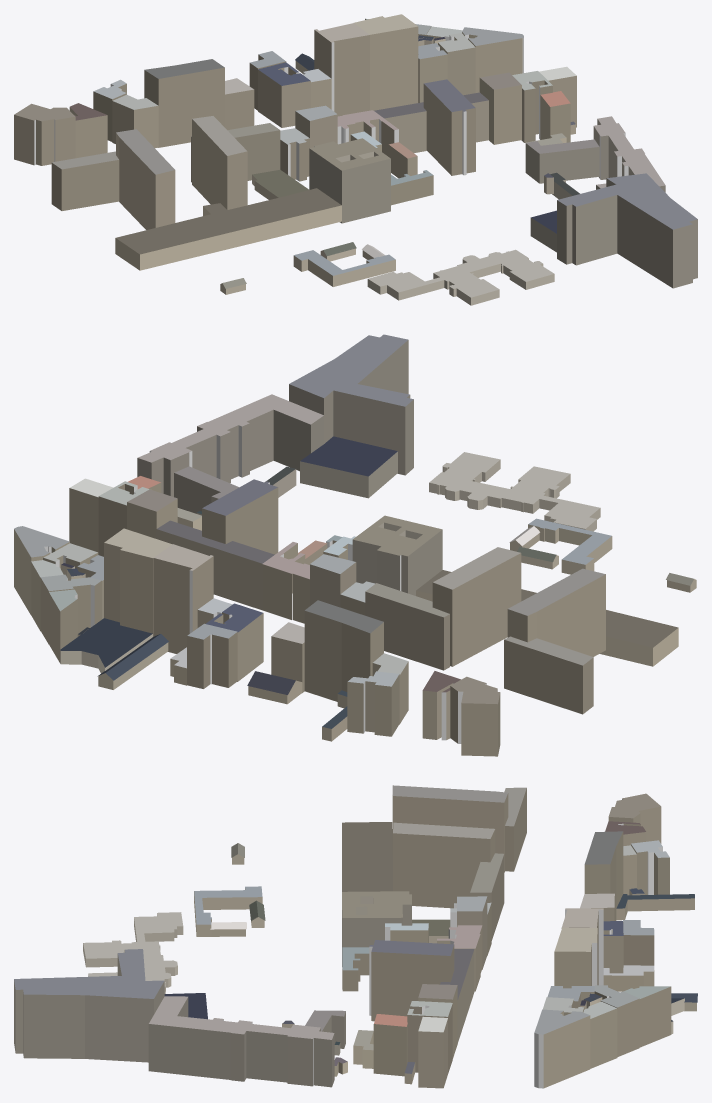
3 renders of one model, top to bottom at view 1: azimuth 30°, elevation 25°; view 2: azimuth 150°, elevation 25°; view 3: azimuth 270°, elevation 25°, orthographic. The views are drawn at different scales.
Visible parts, largest first — view 1: tuile; view 2: tuile; view 3: tuile.
Boxes of the visible parts, <box> form: tuile: <box>14,14,697,305</box>; tuile: <box>14,334,696,756</box>; tuile: <box>14,785,697,1088</box>.
Size of the model in its own units: 255 by 42.22 by 291.
